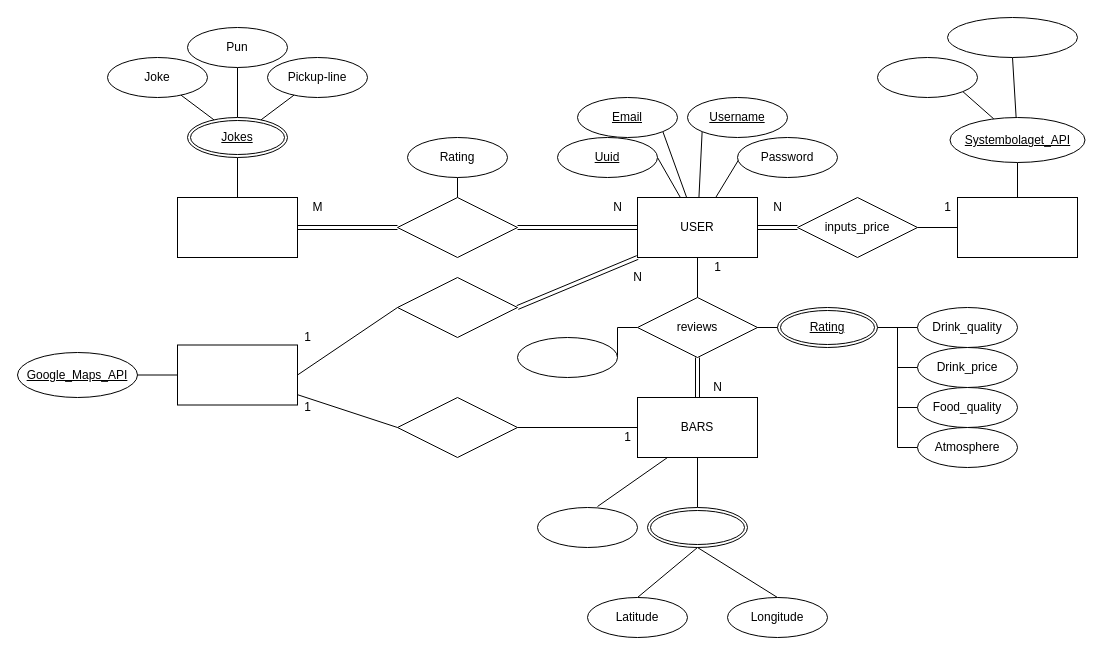
Image size: 1103x655. Some labels were removed from this diagram. Here are the shapes that lost their labels. From the top down, the centre of each, then its label:
At point (1012, 37): "Alcohol_percentage".
At point (927, 77): "Drink_volume".
At point (237, 227): "JOKE_ENGINE".
At point (457, 227): "requests".
At point (1017, 227): "APK_CALC".
At point (457, 307): "views".
At point (237, 374): "MAP".
At point (567, 357): "Comment".
At point (457, 427): "gets_location".
At point (587, 527): "Name".
At point (697, 527): "Location".
